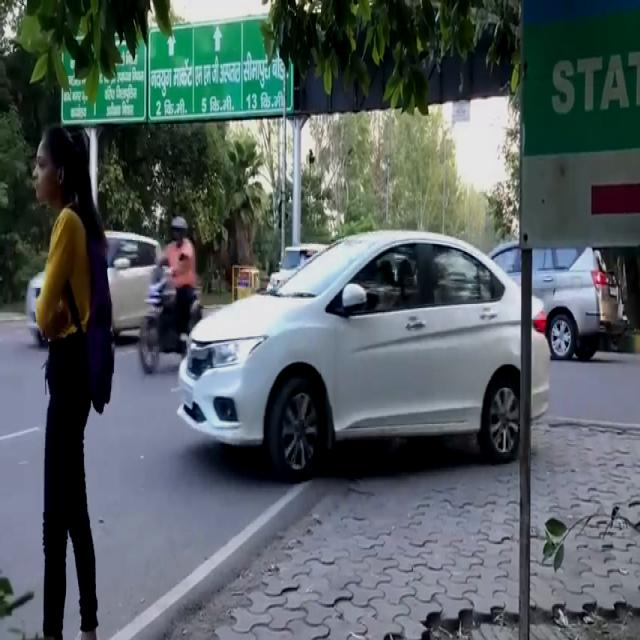SED: (179, 228, 556, 464)
